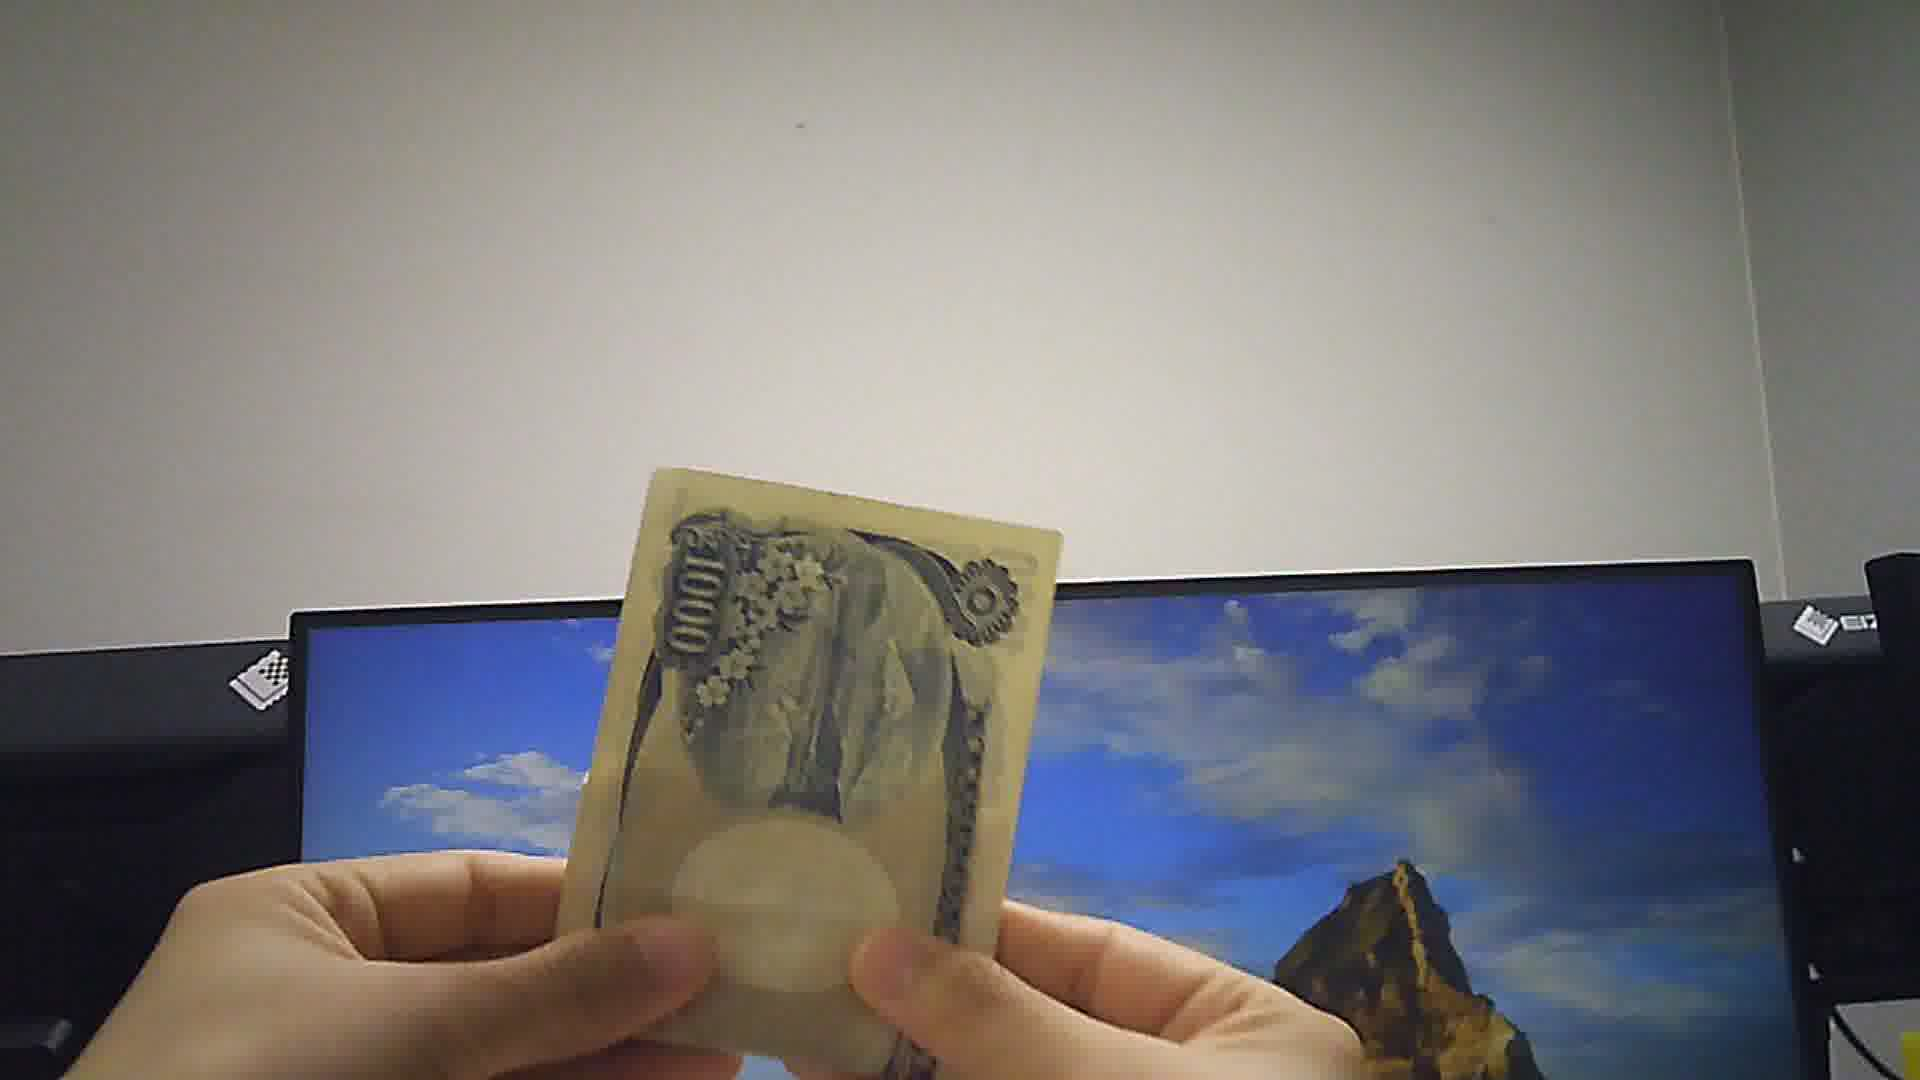1,000 Yen: (563, 451, 1058, 1079)
